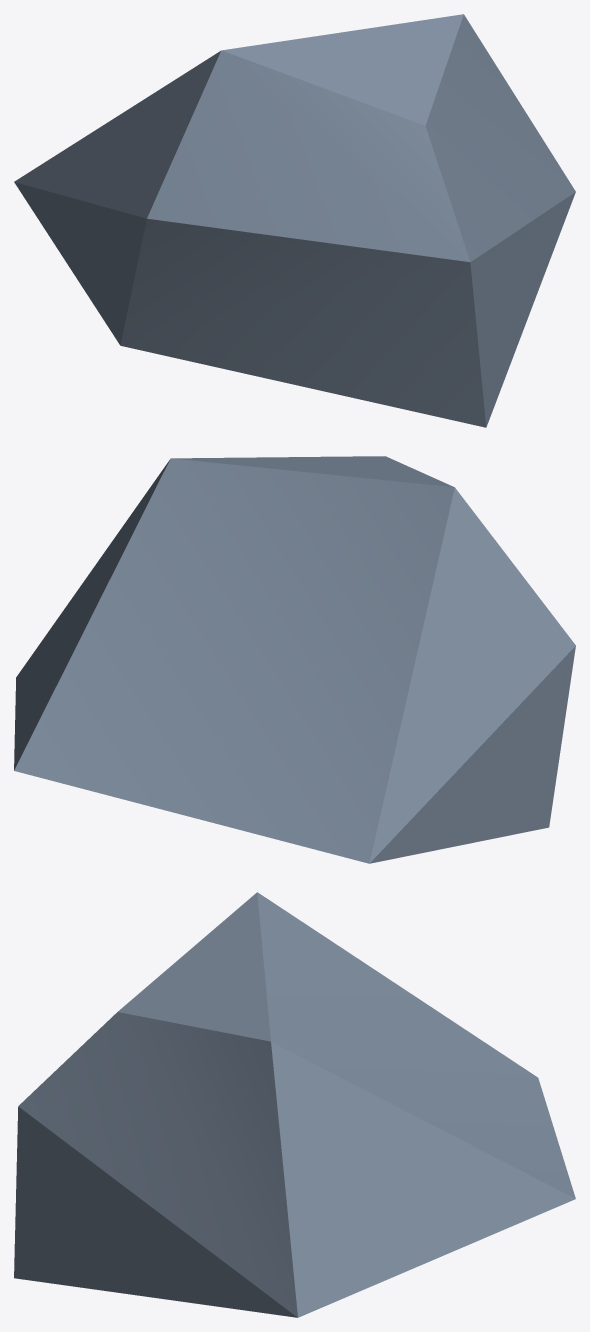
File: Stone_2.fbx
3 views of the same model, one above another, from view 1: azimuth 30°, elevation 25°; view 2: azimuth 150°, elevation 25°; view 3: azimuth 270°, elevation 25° (orthographic). The views are drawn at different scales.
Parts seen in each view (by area): view 1: Stone7; view 2: Stone7; view 3: Stone7.
Boxes of the visible parts, x1,y1,x2,y2 form: Stone7: (14, 14, 575, 427); Stone7: (14, 456, 575, 863); Stone7: (14, 892, 575, 1317).
Bounding box in the file's own units: 187 × 123 × 196.
